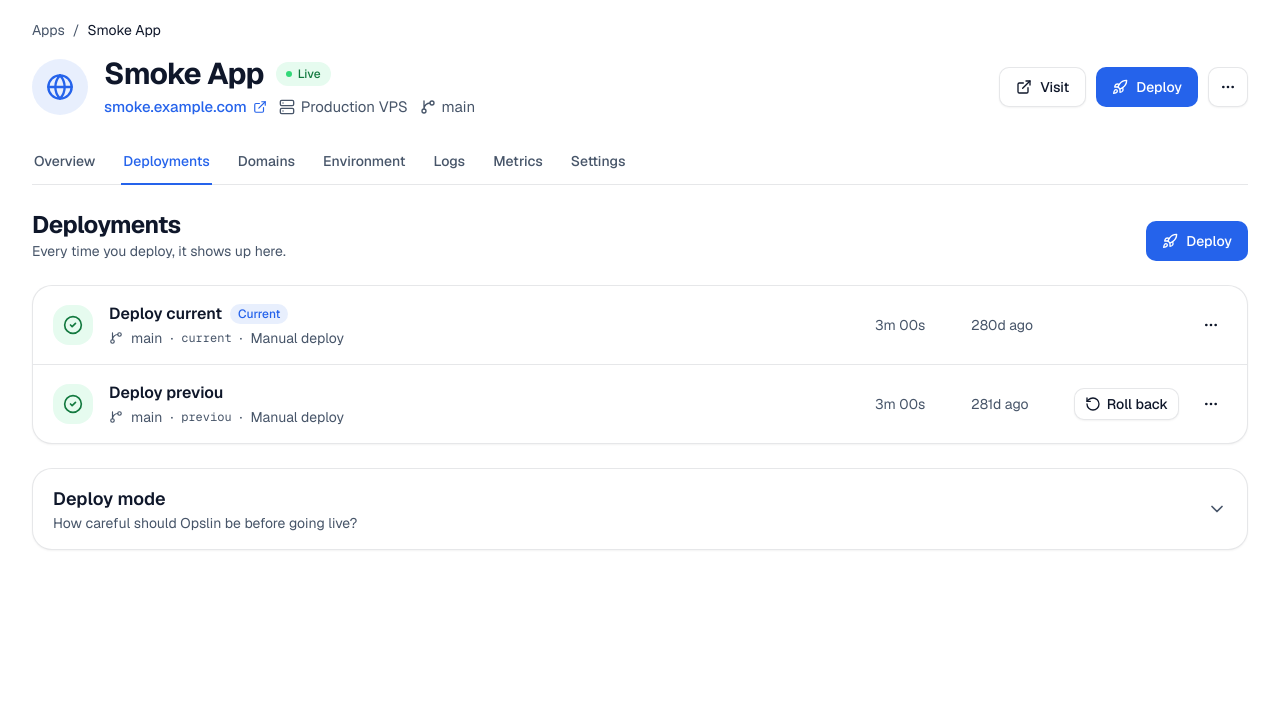
Scenario: AppDetailPage extraction smoke › renders the Deployments section and keeps rollback confirmation wired
Expected: the heading "Smoke App" is shown, [104,56,264,92]
Expected: the heading "Deployments" is shown, [32,208,180,240]
Click the button "Roll back" at (1126, 404), box [1074,388,1179,420]
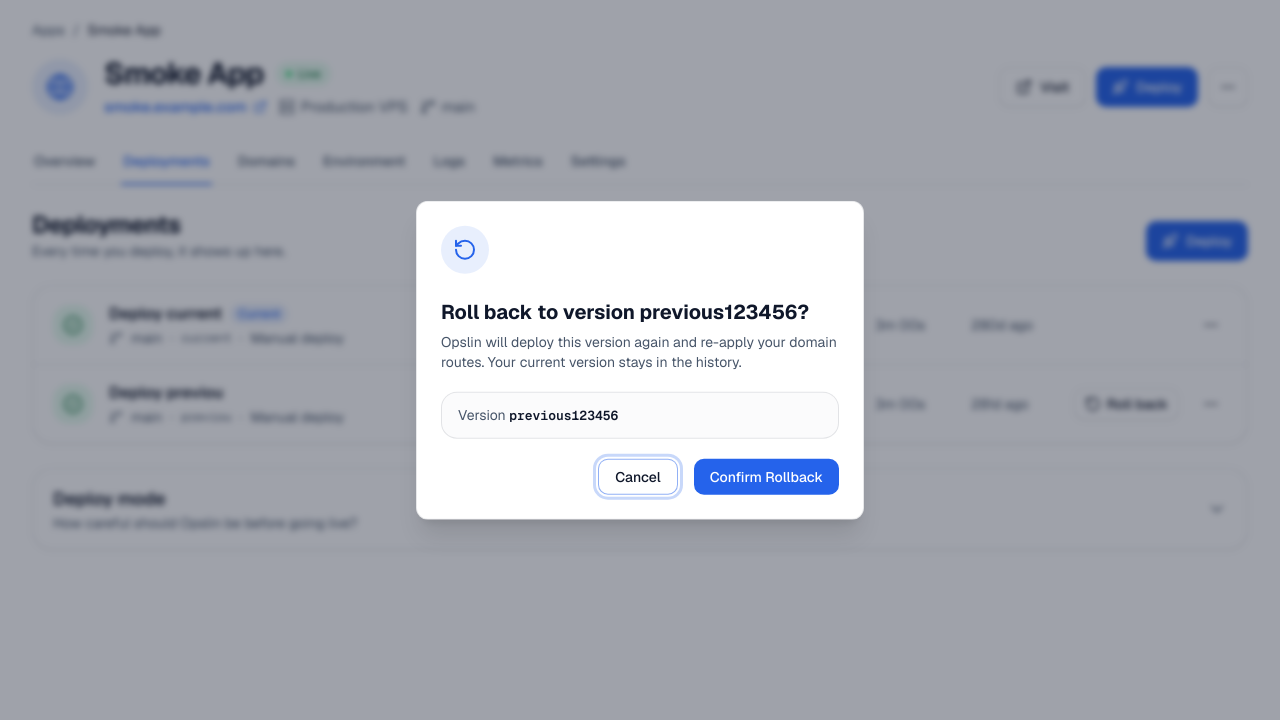
Expected: the heading "Roll back to version previous123456?" is shown, [441,298,839,326]
